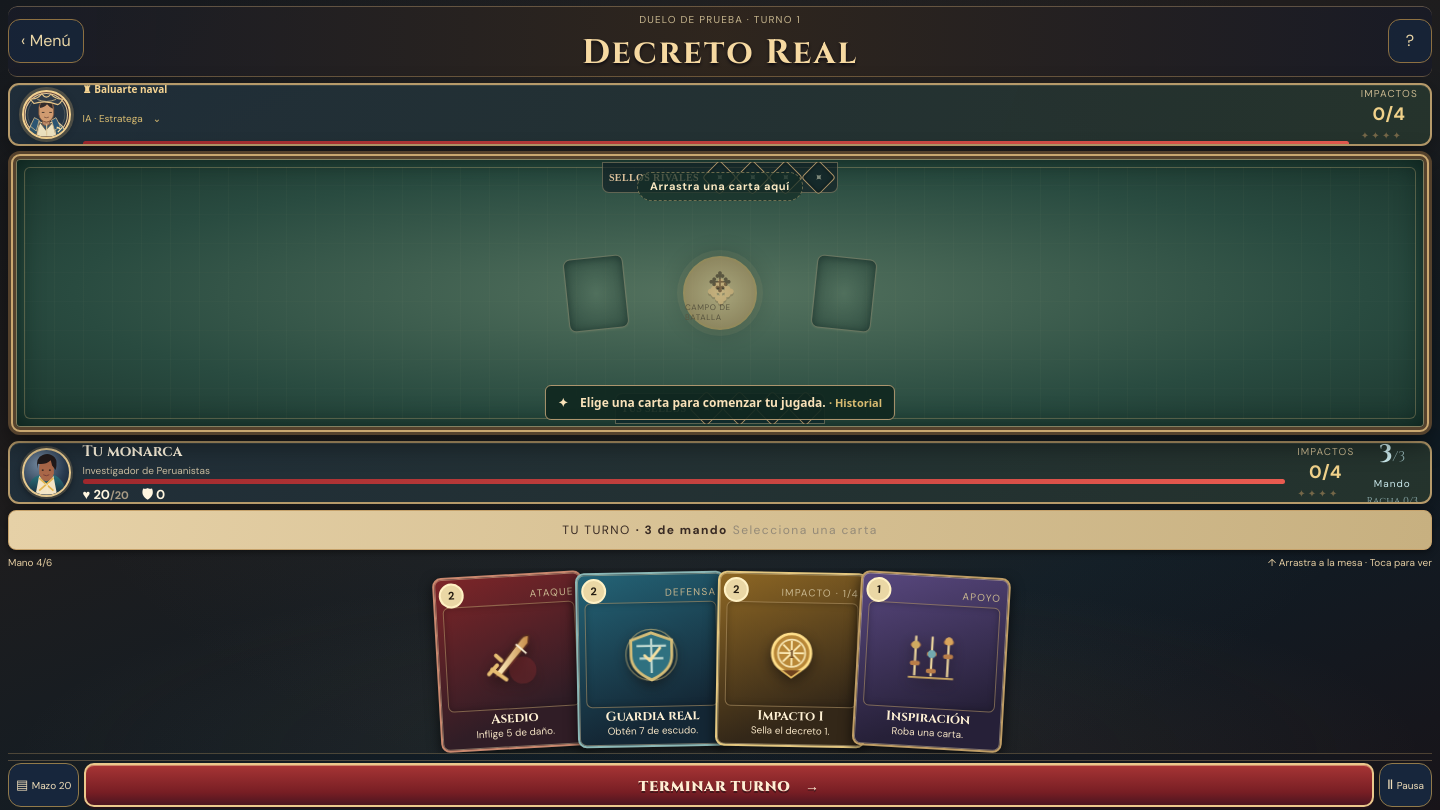
Test: playing a legal card shows only the engine-derived effect; ending turn does not invent another
Click the button "2 ATAQUE Asedio Inflige 5 de daño.": (511, 662) [431,570,591,754]
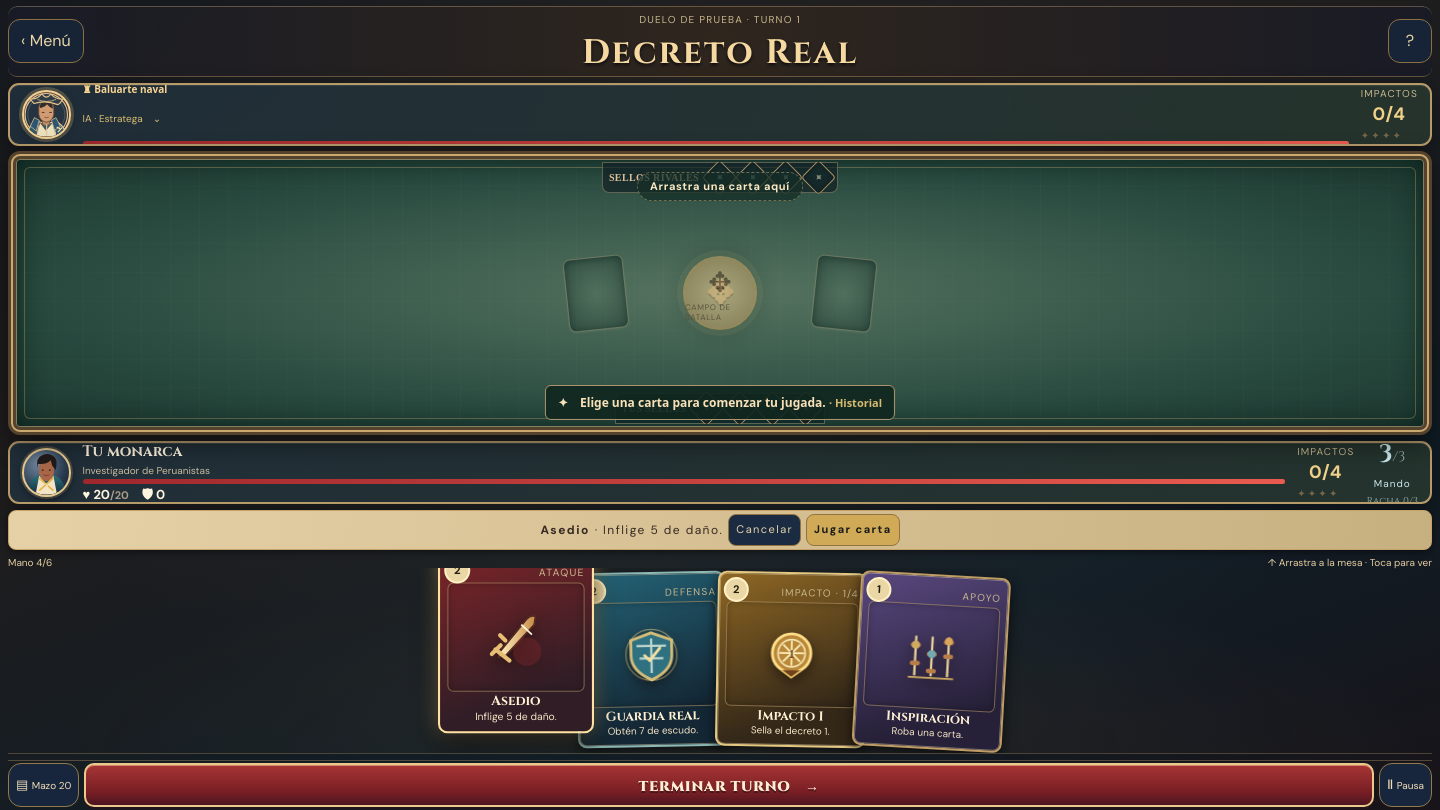
Click the button "Jugar carta": (853, 530) [806,514,900,546]
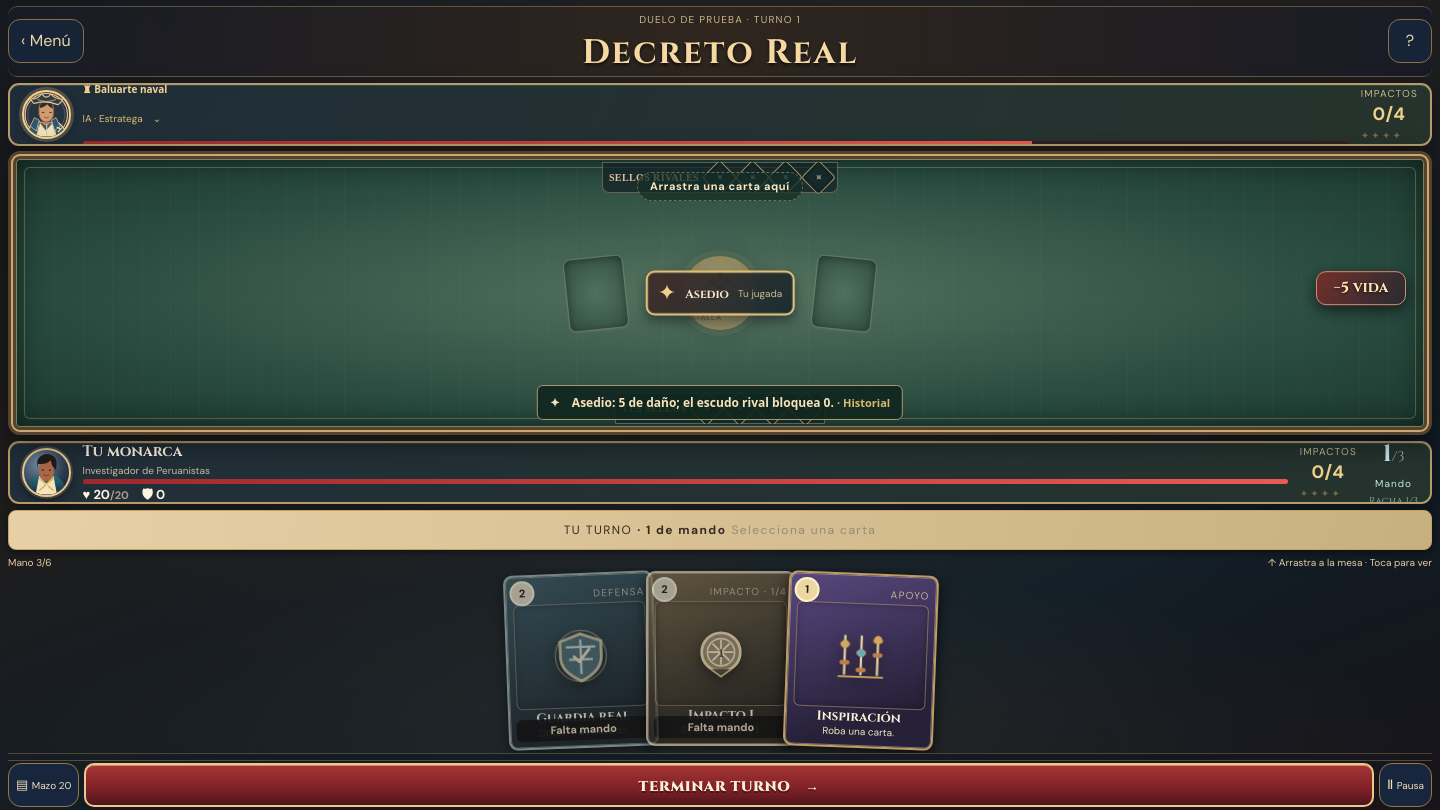
Click the button "TERMINAR TURNO →": (729, 785) [84,763,1374,807]
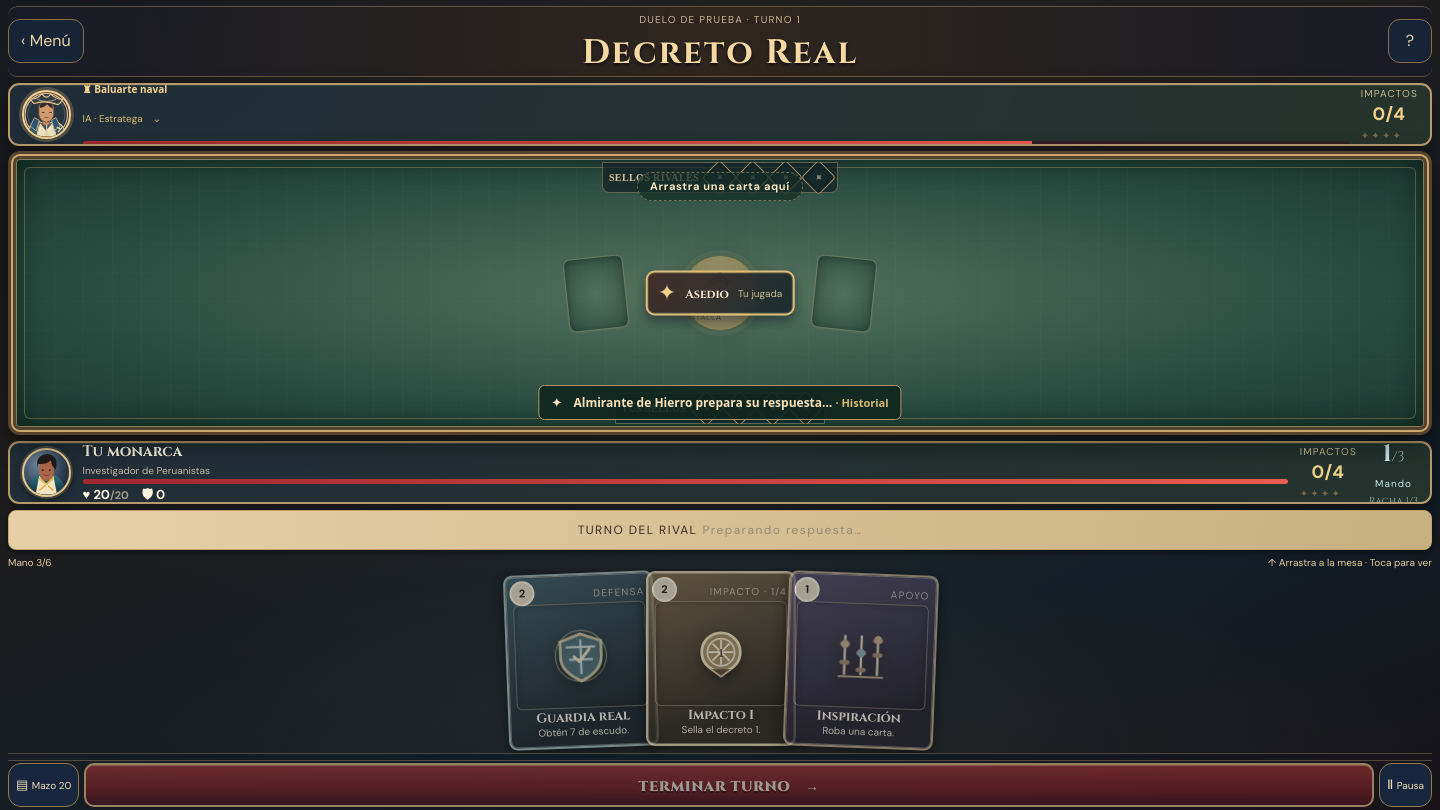
Expected: the element with class "dr-battle-cue" is gone
